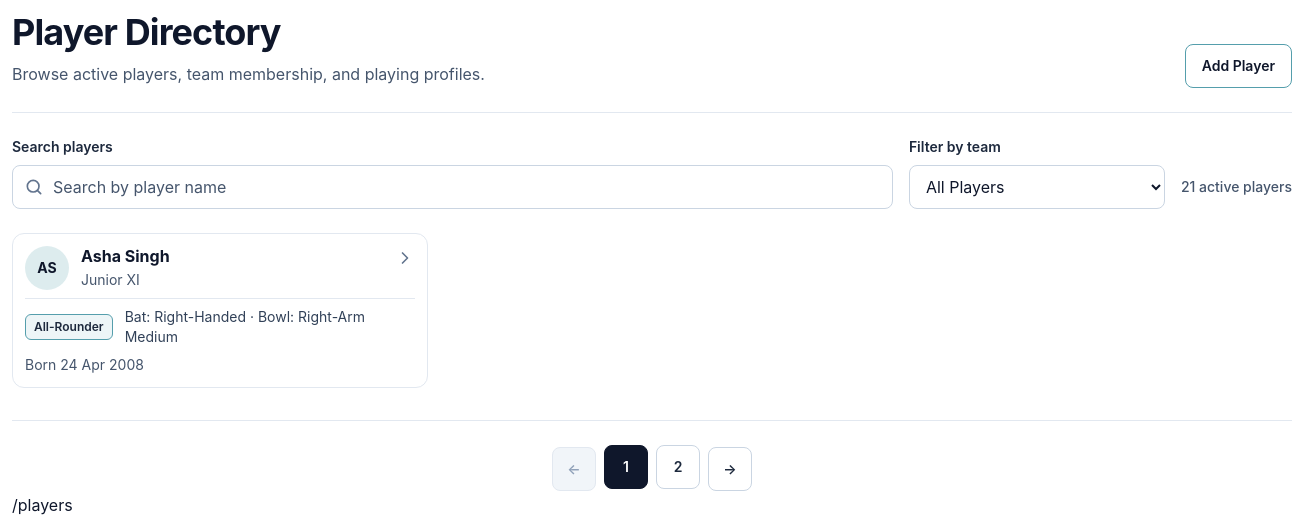
PlayersPage › debounces trimmed search, retains results, and aborts stale requests
This screenshot has width=1304, height=532.
Expected: the text "Asha Singh" is shown, [81,246,170,266]
Type "  Ash  " into the search field labelled "Search players" at (452, 187), box [12,165,893,209]
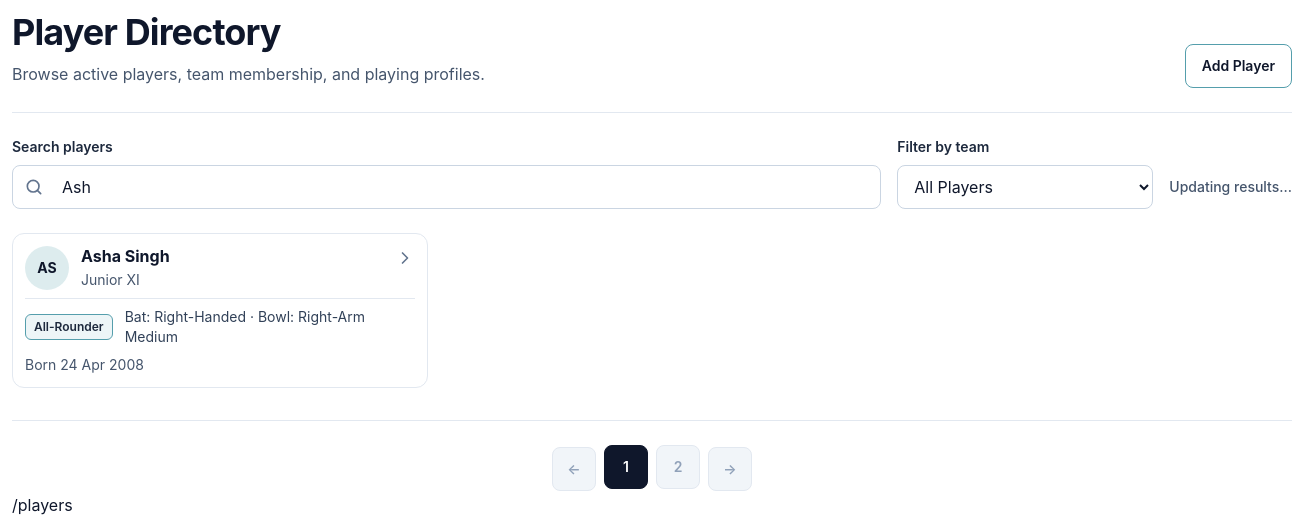
Expected: the text "Asha Singh" is shown, [81,246,170,266]
Now the text "Updating results…" is shown, box [1169,178,1292,195]
Replace the text in the search field labelled "Search players" with "Asha" at (447, 187), box [12,165,881,209]
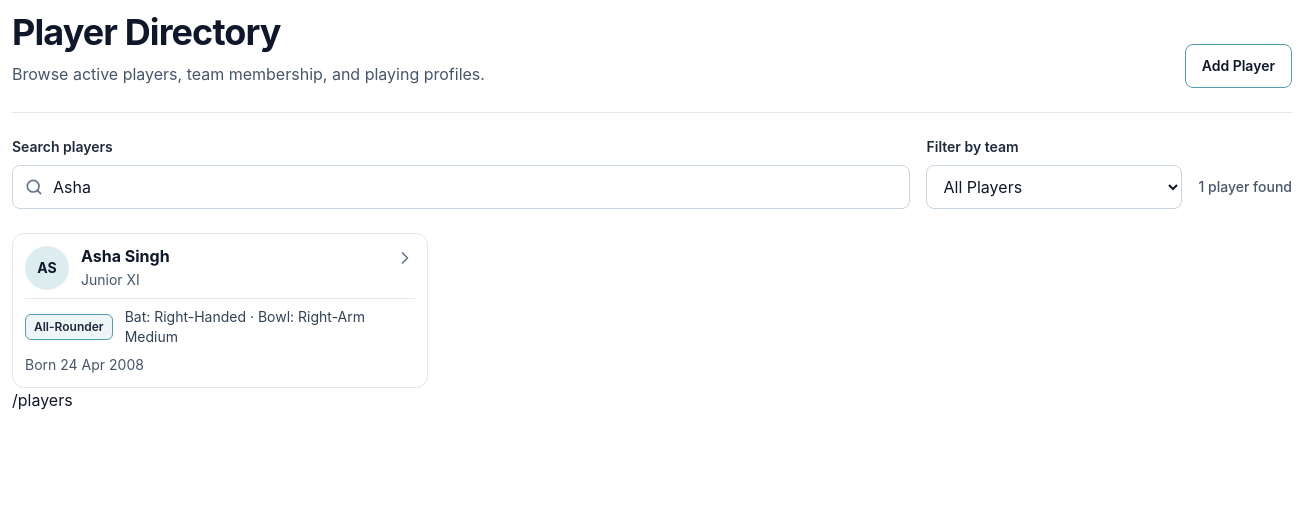
Now the text "1 player found" is shown, box [1198,178,1292,195]
